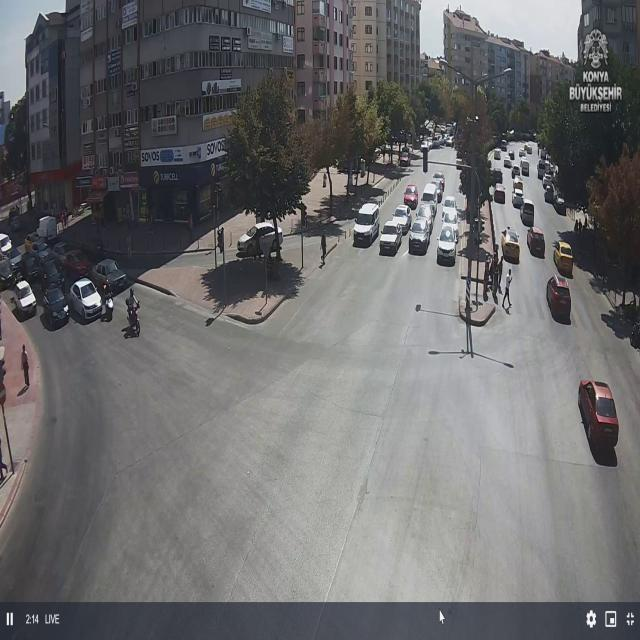Car: (579, 381, 619, 452), (236, 221, 284, 257), (68, 278, 105, 322), (90, 259, 128, 294), (40, 285, 70, 326), (546, 275, 572, 318), (58, 248, 92, 277), (12, 280, 37, 317), (378, 219, 404, 253), (436, 225, 458, 263), (408, 218, 431, 254), (40, 260, 66, 288), (20, 251, 43, 281), (501, 228, 520, 264), (554, 240, 574, 274), (421, 182, 439, 215), (392, 204, 412, 233), (527, 227, 546, 257), (415, 203, 436, 230), (52, 241, 78, 262), (0, 255, 15, 289), (3, 247, 21, 270), (520, 199, 535, 226), (403, 184, 419, 208), (25, 232, 45, 250), (31, 243, 52, 260), (442, 207, 458, 229), (432, 171, 446, 193), (442, 194, 457, 214), (0, 233, 13, 256), (493, 184, 506, 203), (512, 189, 524, 208), (10, 214, 22, 232), (512, 178, 524, 194), (542, 174, 554, 189), (554, 198, 565, 214), (544, 187, 554, 203), (399, 152, 410, 166), (493, 168, 504, 182), (510, 165, 520, 178), (547, 163, 557, 176), (421, 141, 430, 154), (503, 156, 512, 168), (456, 150, 464, 163), (431, 138, 441, 148), (456, 158, 464, 170), (524, 144, 533, 154), (500, 141, 508, 151), (445, 137, 453, 147), (494, 149, 501, 160), (508, 150, 515, 160), (519, 149, 526, 157)
Cycle: (126, 301, 142, 337), (104, 293, 115, 321)
Van: (352, 203, 380, 246), (34, 215, 59, 242), (520, 160, 529, 176)
